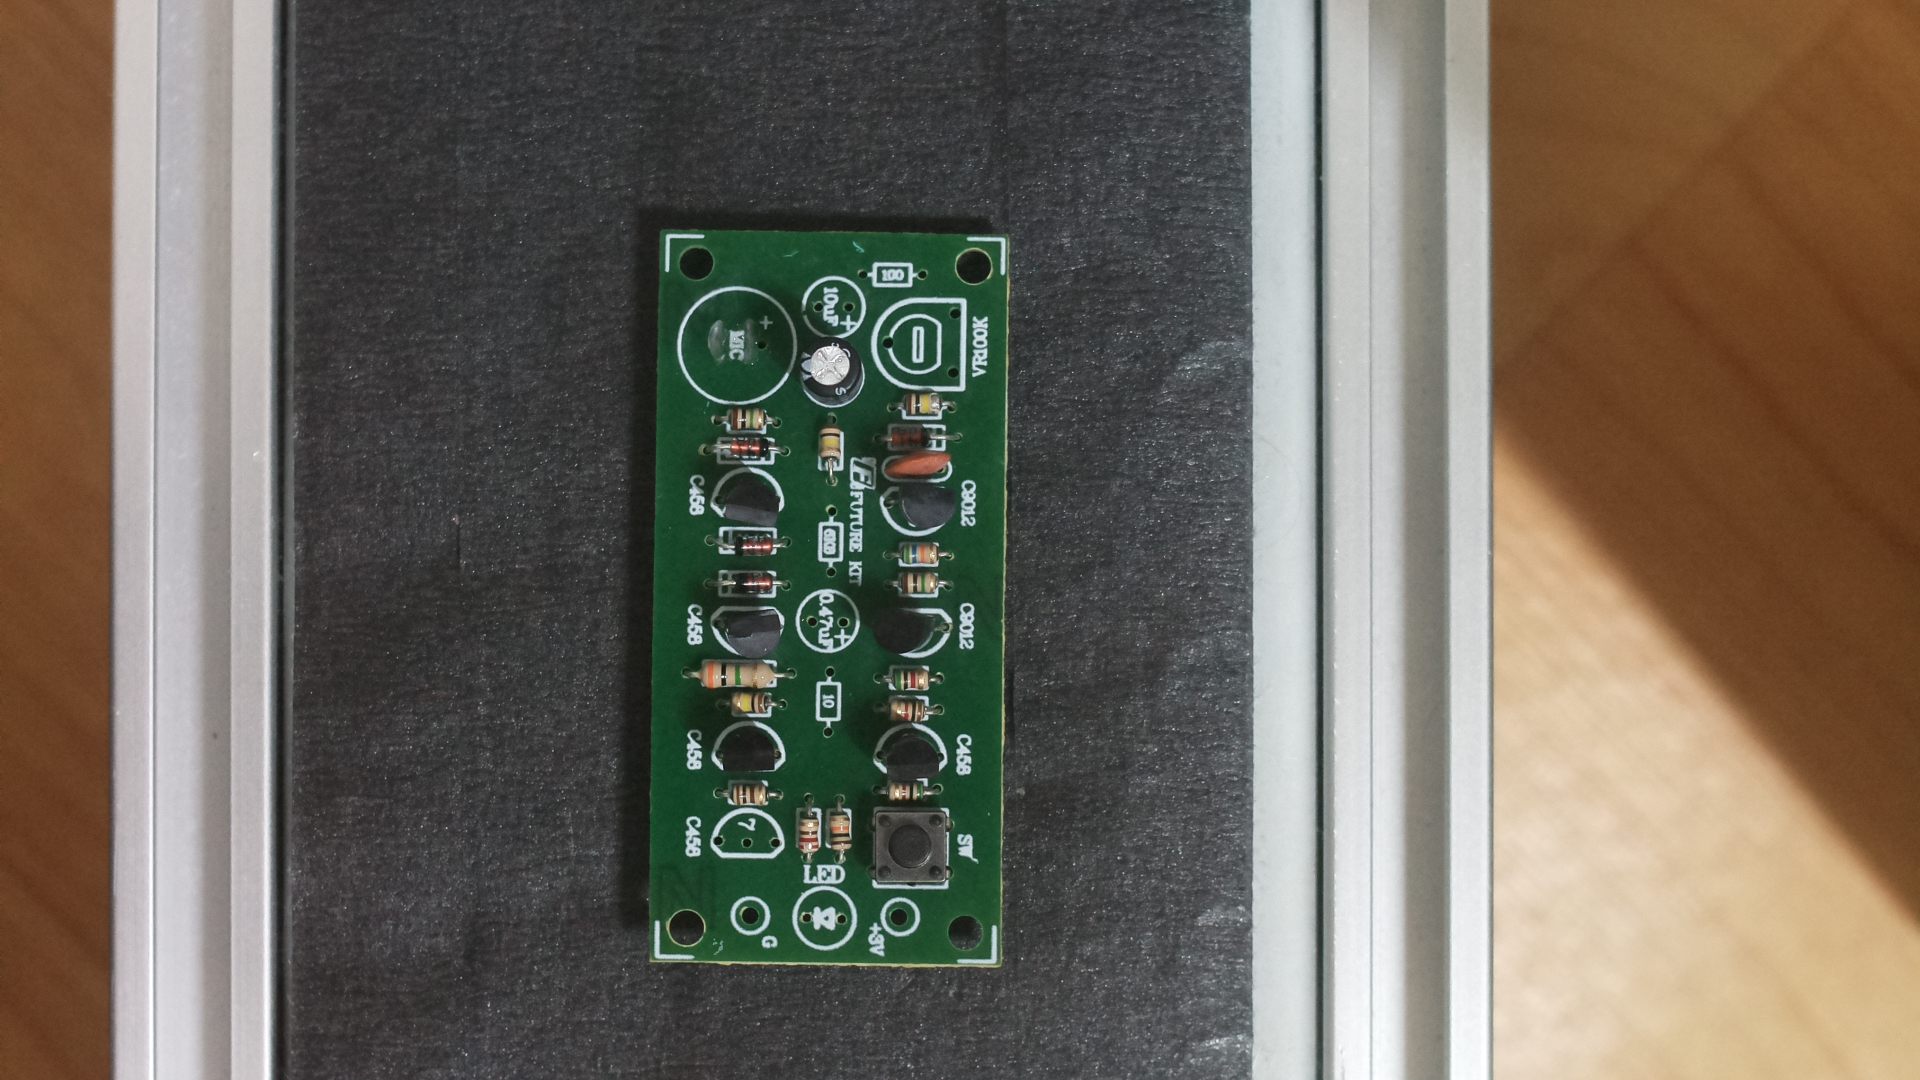A_Missing_part: (647, 199, 1027, 994)
